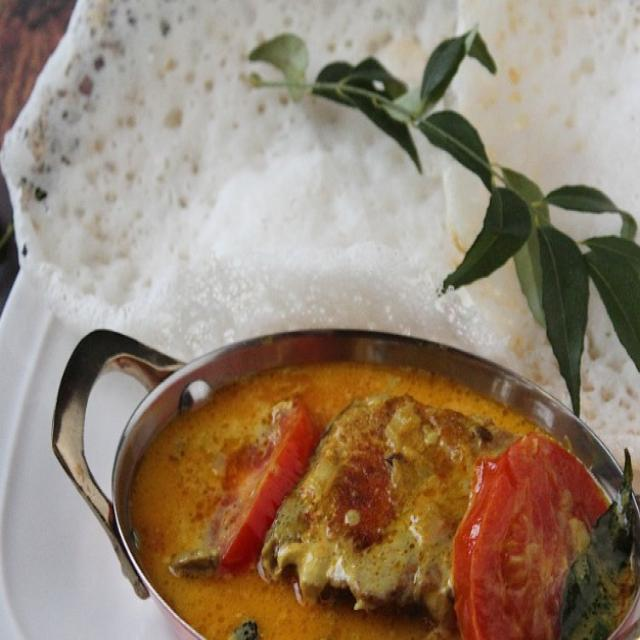AAPAM: (0, 1, 639, 494)
FISH CURRY: (130, 371, 634, 639)
